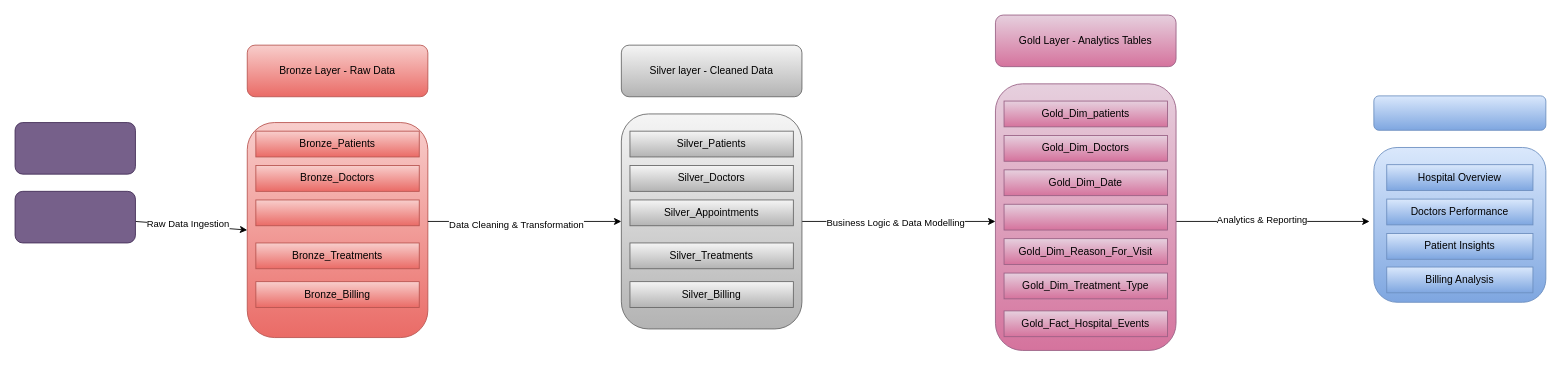
The diagram is 1561 pixels wide and 366 high, and some of its shapes have lost their labels. The shapes that lost their labels are listed below. From the top down, each one's centre as x and y in pixels, then its label:
At (1459,112): "Power BI Dashboards".
At (74,148): "Hospital Management Source Data".
At (74,216): "CSV".
At (337,212): "Bronze_Appointments".
At (1085,216): "Gold_Dim_Payment_Method".
